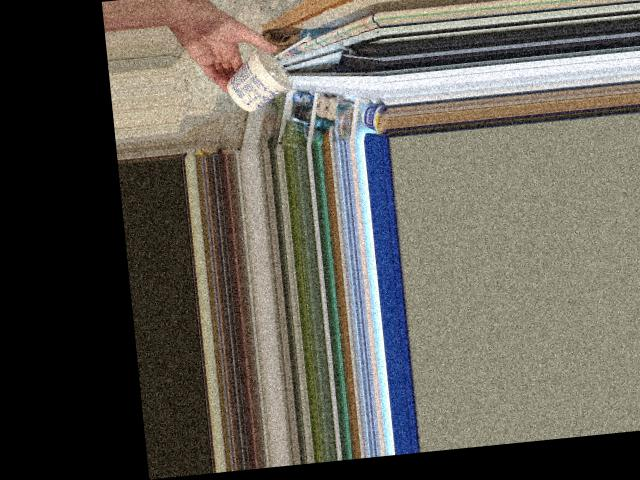cotage: (232, 43, 298, 111)
